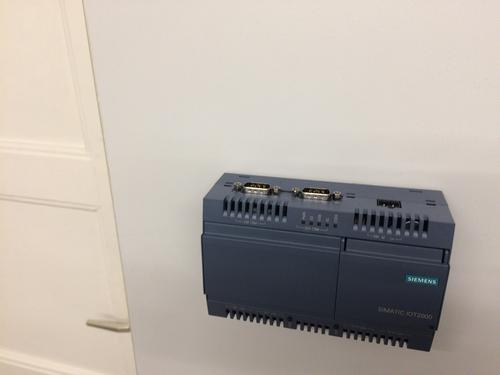iot2000: (200, 171, 456, 352)
